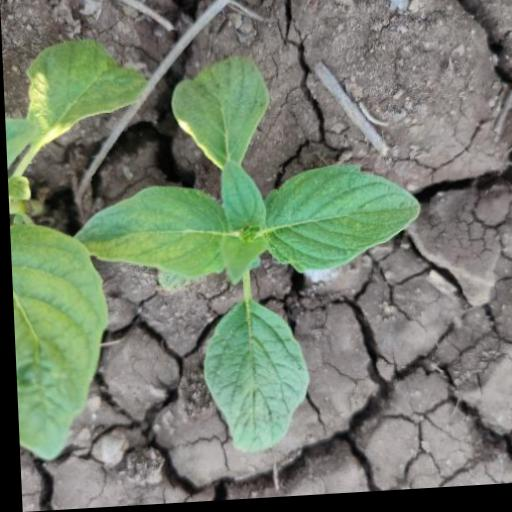crop: (81, 62, 426, 450)
